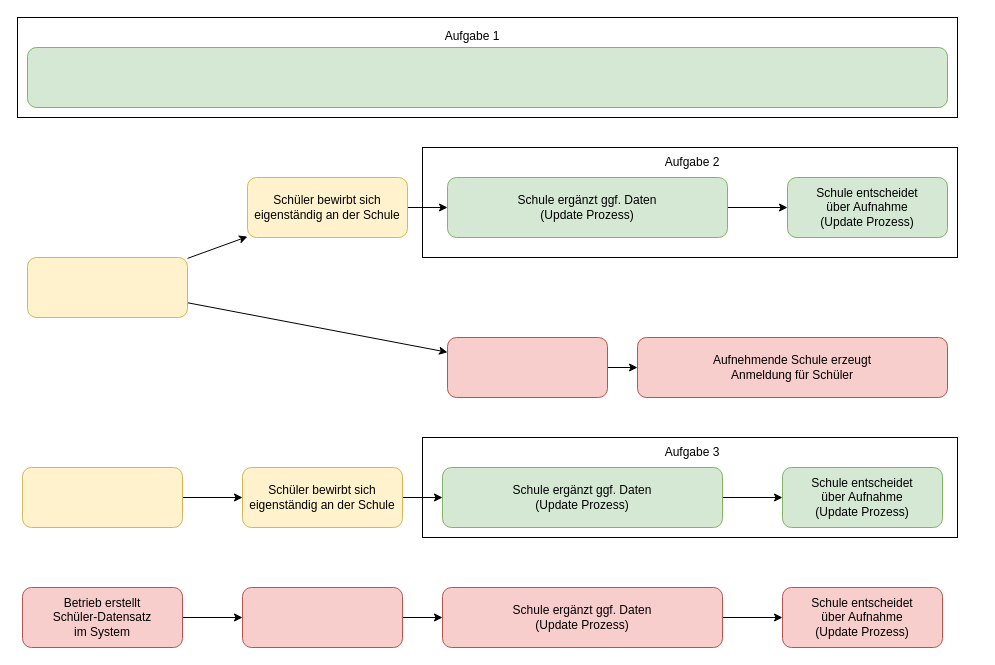
Some shapes in this 995 by 665 pixel diagram are drawn without their labels. Here are the shapes that lost their labels. From the top down, the centre of each, then its label:
the point at 487,77: Aufnehmende Schule erzeugt Schülerdatensatz und Anmeldung für Schüler
the point at 107,287: Abgebende Schule legt Schüler im System an
the point at 527,367: Schüler wird von aufnehmender Schule im System gesucht
the point at 102,497: Schüler erstellt seinen Datensatz eigenständig im System
the point at 322,617: Betrieb bewirbt den Schüler an der Schule
